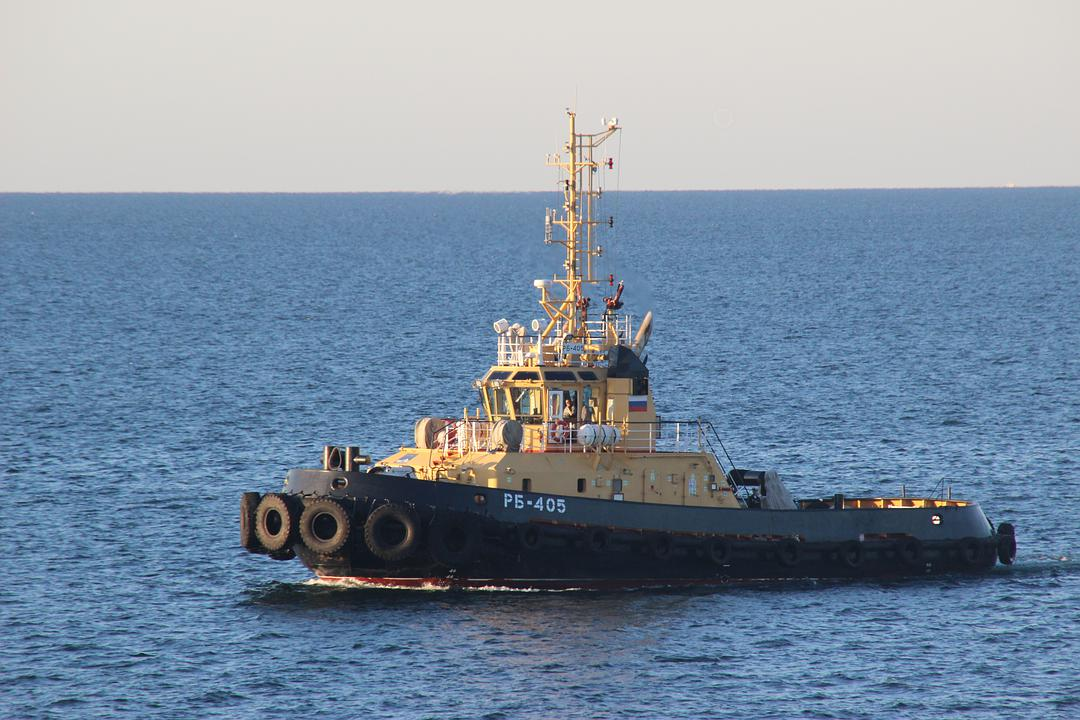otherboat: (229, 158, 1030, 599)
